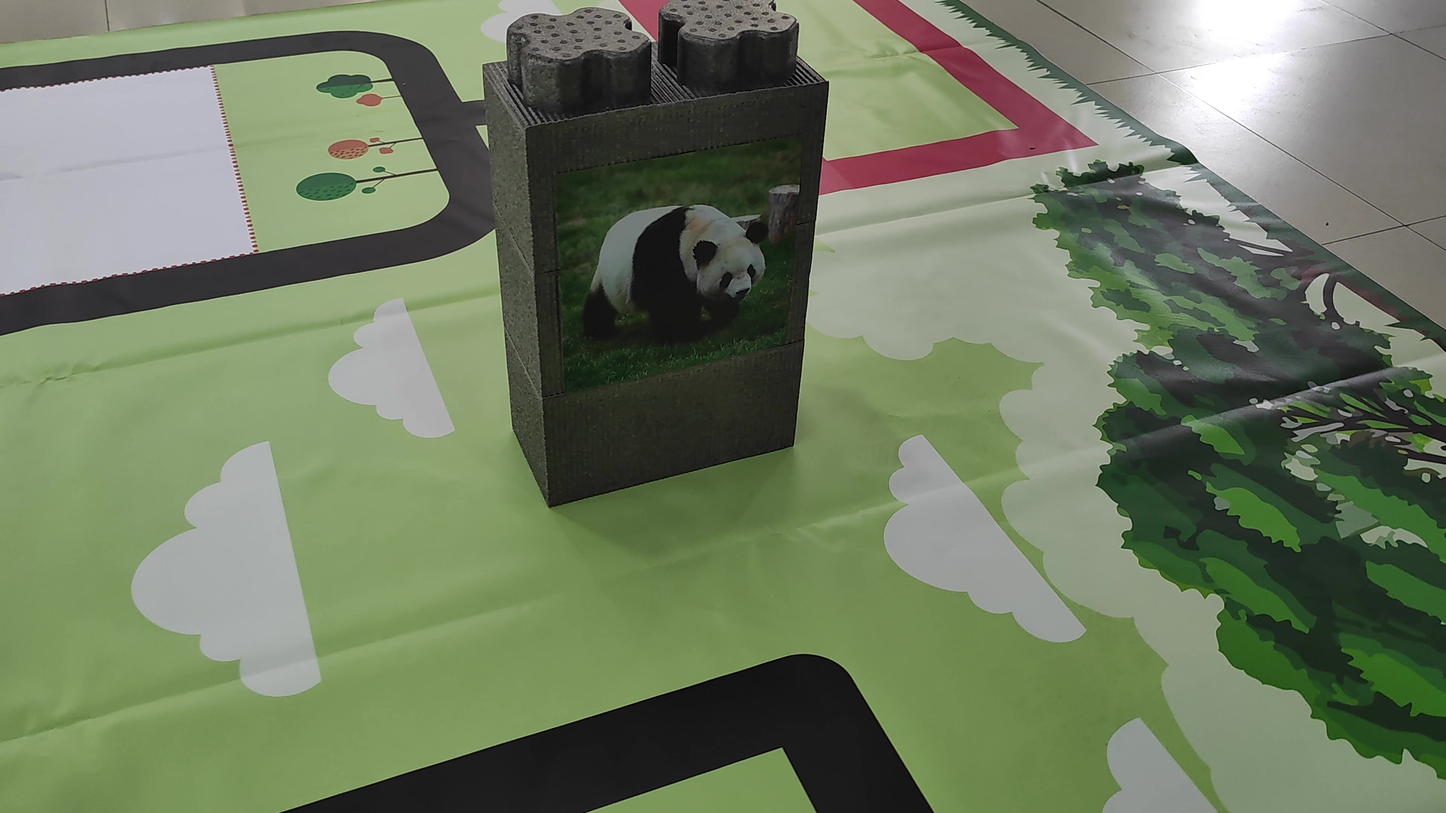panda: (566, 184, 781, 387)
